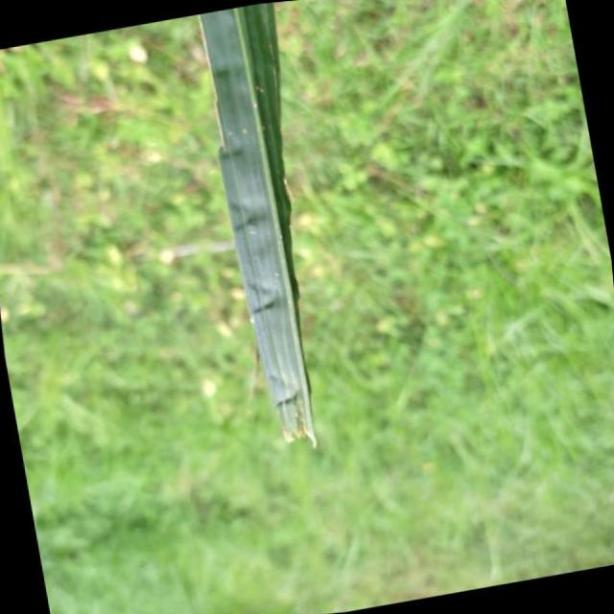Boron: (200, 0, 320, 452)
